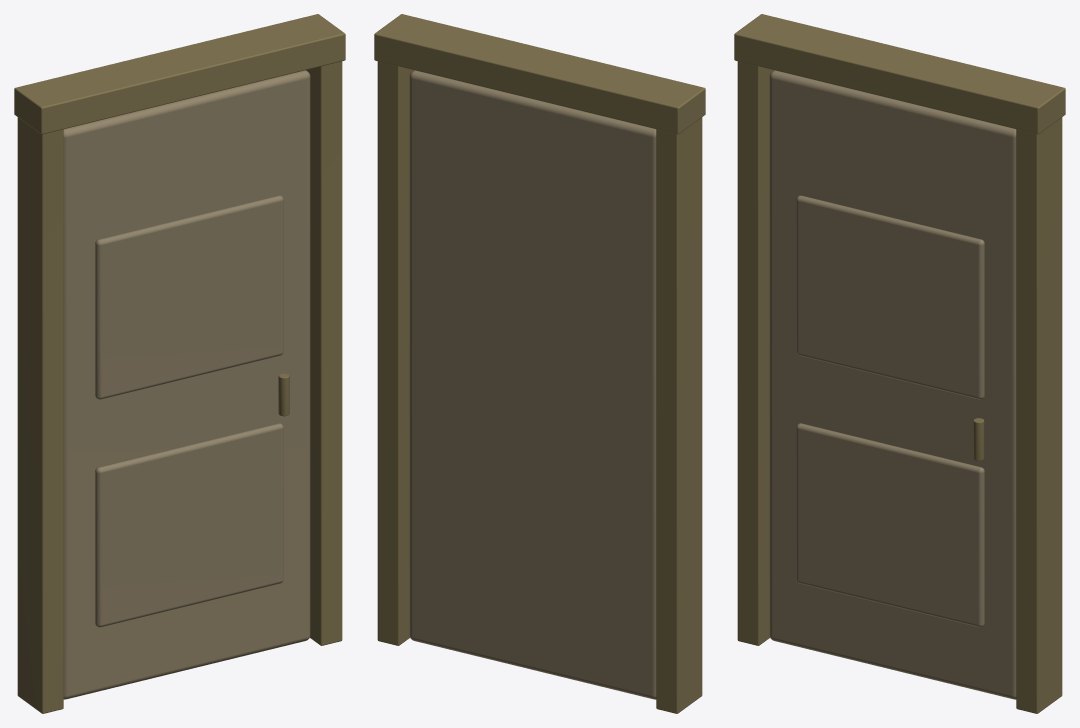
The model's file is temple-door.glb.
The picture shows the model from 3 angles, left to right: view 1: azimuth 30°, elevation 25°; view 2: azimuth 150°, elevation 25°; view 3: azimuth 330°, elevation 25°; orthographic projection.
Parts seen in each view (by area): view 1: temple-door - Room Review joinery runtime PBR, temple-door - Room Review trim runtime PBR, temple-door - Room Review upholstery runtime PBR; view 2: temple-door - Room Review joinery runtime PBR, temple-door - Room Review trim runtime PBR; view 3: temple-door - Room Review joinery runtime PBR, temple-door - Room Review trim runtime PBR, temple-door - Room Review upholstery runtime PBR.
Boxes of the visible parts, <box> form: temple-door - Room Review joinery runtime PBR: <box>63,70,310,699</box>; temple-door - Room Review trim runtime PBR: <box>14,14,345,713</box>; temple-door - Room Review upholstery runtime PBR: <box>95,195,283,627</box>; temple-door - Room Review joinery runtime PBR: <box>409,70,656,699</box>; temple-door - Room Review trim runtime PBR: <box>374,14,705,713</box>; temple-door - Room Review joinery runtime PBR: <box>769,70,1016,699</box>; temple-door - Room Review trim runtime PBR: <box>734,14,1065,713</box>; temple-door - Room Review upholstery runtime PBR: <box>796,195,984,627</box>.
Size of the model in its own units: 1.4 by 2.67 by 0.232.
